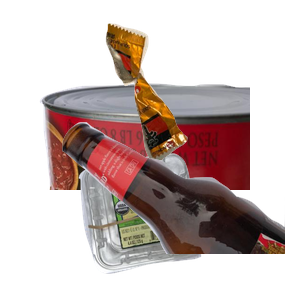glass: (60, 120, 300, 300)
metal: (37, 81, 277, 261)
plastic: (76, 151, 270, 300)
trash: (103, 21, 300, 174)
